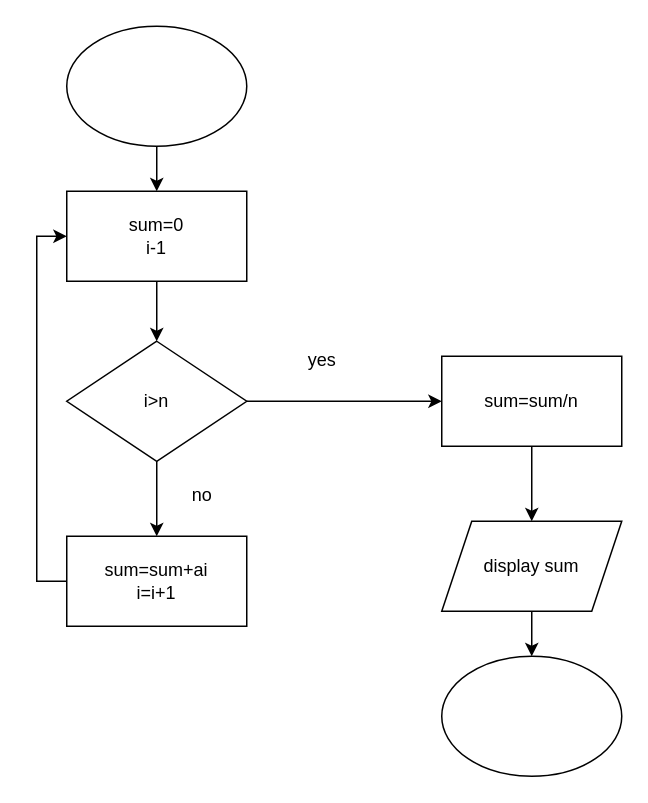
This 648x803 diagram has some shape labels left out. Each missing label, with the centre of its shape:
"begin" belongs at (156,85).
"end" belongs at (531,715).
